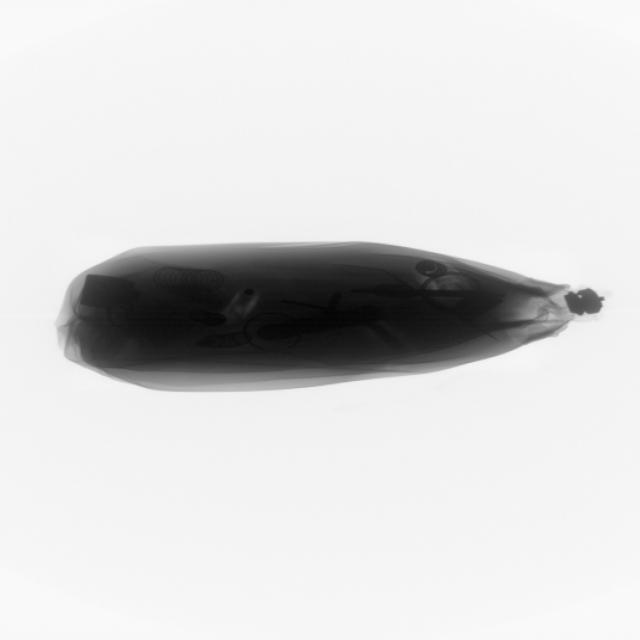GUN: (262, 313, 389, 341)
